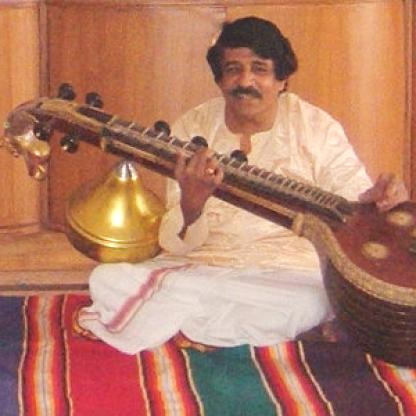Veena: (195, 162, 416, 368)
